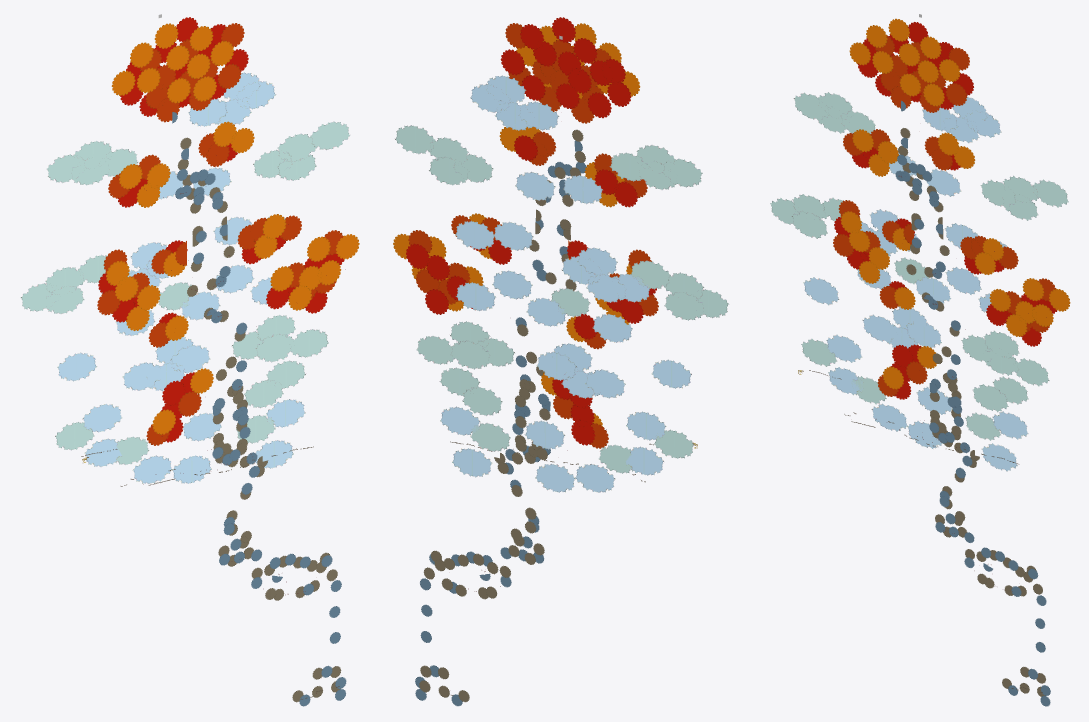
File: bigtree01_bg.glb
3 views of the same model, side by side, from view 1: azimuth 30°, elevation 25°; view 2: azimuth 150°, elevation 25°; view 3: azimuth 330°, elevation 25° (orthographic). The views are drawn at different scales.
Parts seen in each view (by area): view 1: bigtree01_bg; view 2: bigtree01_bg; view 3: bigtree01_bg.
Part boxes in pixels (box(x1,y1,x2,y2)): bigtree01_bg: box(20, 14, 359, 706); bigtree01_bg: box(393, 17, 728, 706); bigtree01_bg: box(770, 14, 1070, 706).
Bounding box in the file's own units: 3057 × 6093 × 496.
13 materials, 12 textured.
